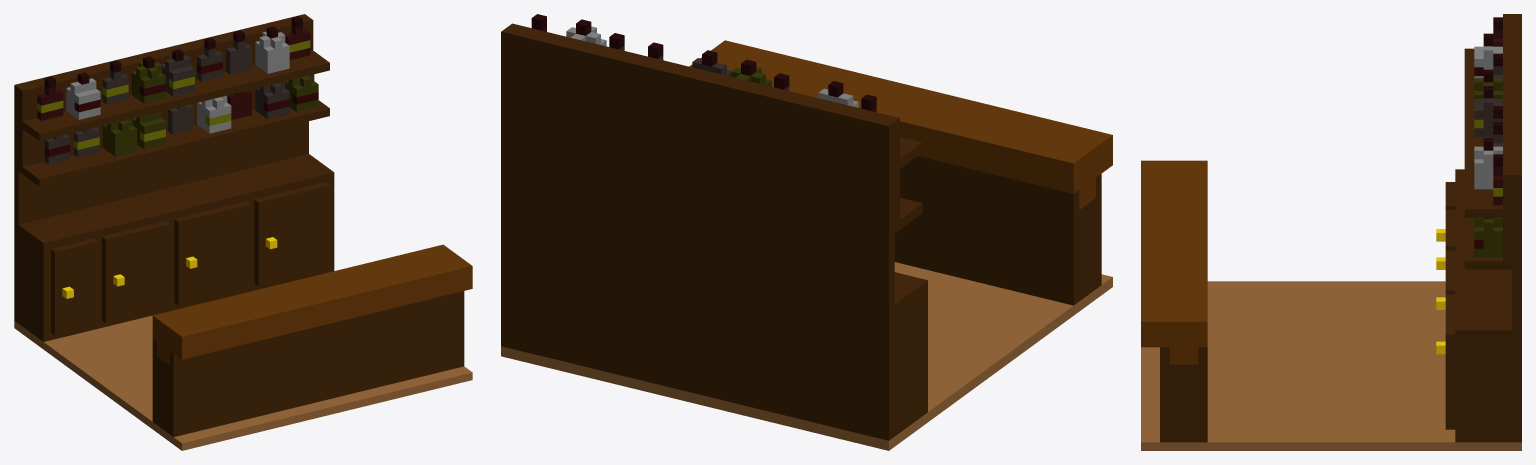
File: saloon-2.obj
The picture shows the model from 3 angles, left to right: view 1: azimuth 30°, elevation 25°; view 2: azimuth 150°, elevation 25°; view 3: azimuth 270°, elevation 25°; orthographic projection. The views are drawn at different scales.
Size of the model in its own units: 4 by 3.3 by 4.
1 material, 1 textured.
